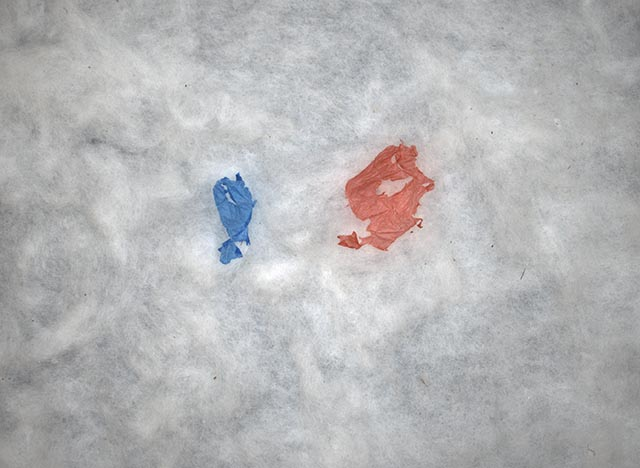plastic film: (336, 138, 436, 253), (212, 170, 256, 266)
